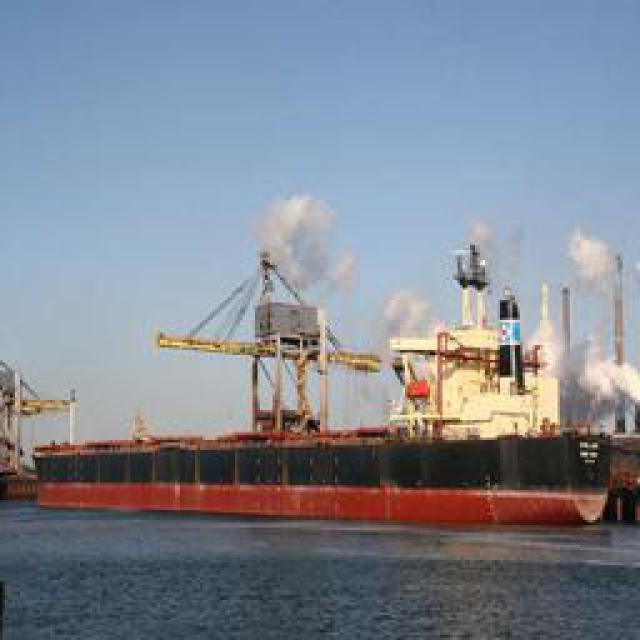Ship: (37, 205, 635, 525)
